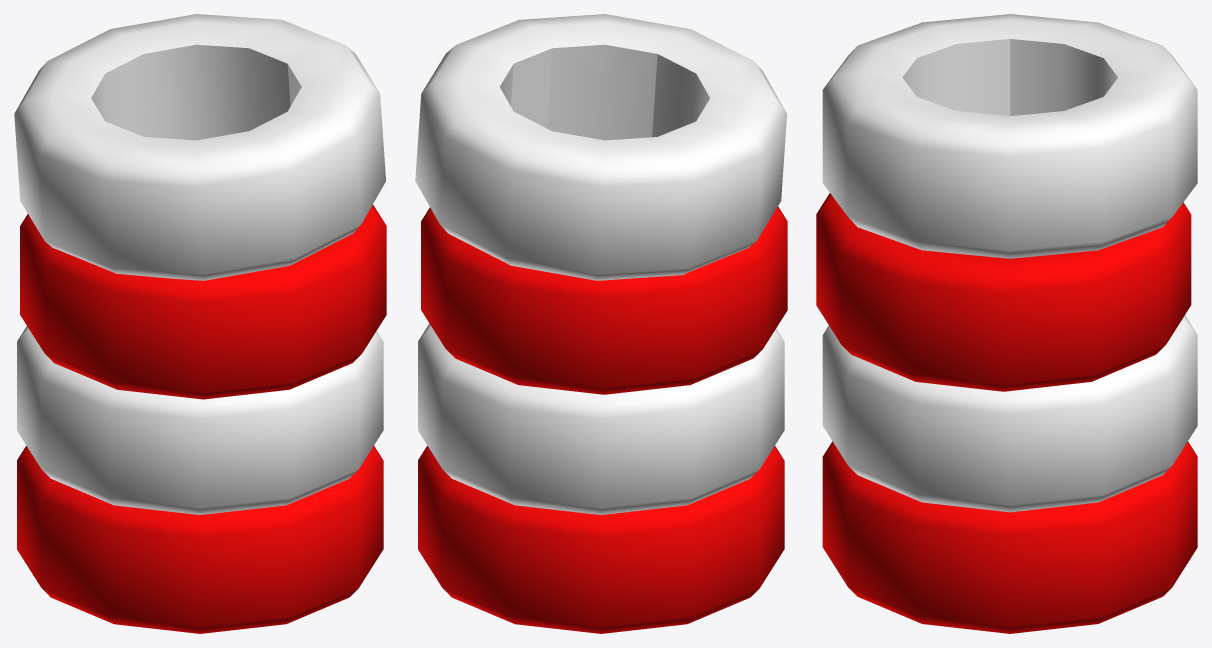
The model's file is Tyre_D.fbx.
3 views of the same model, side by side, from view 1: azimuth 30°, elevation 25°; view 2: azimuth 150°, elevation 25°; view 3: azimuth 270°, elevation 25° (orthographic). The views are drawn at different scales.
Parts seen in each view (by area): view 1: Tyre_D; view 2: Tyre_D; view 3: Tyre_D.
Part boxes in pixels (left/top/right/bottom): Tyre_D: left=14, top=14, right=386, bottom=633; Tyre_D: left=415, top=14, right=787, bottom=633; Tyre_D: left=816, top=14, right=1197, bottom=633.
Bounding box in the file's own units: 20.22 × 29.22 × 20.24.
